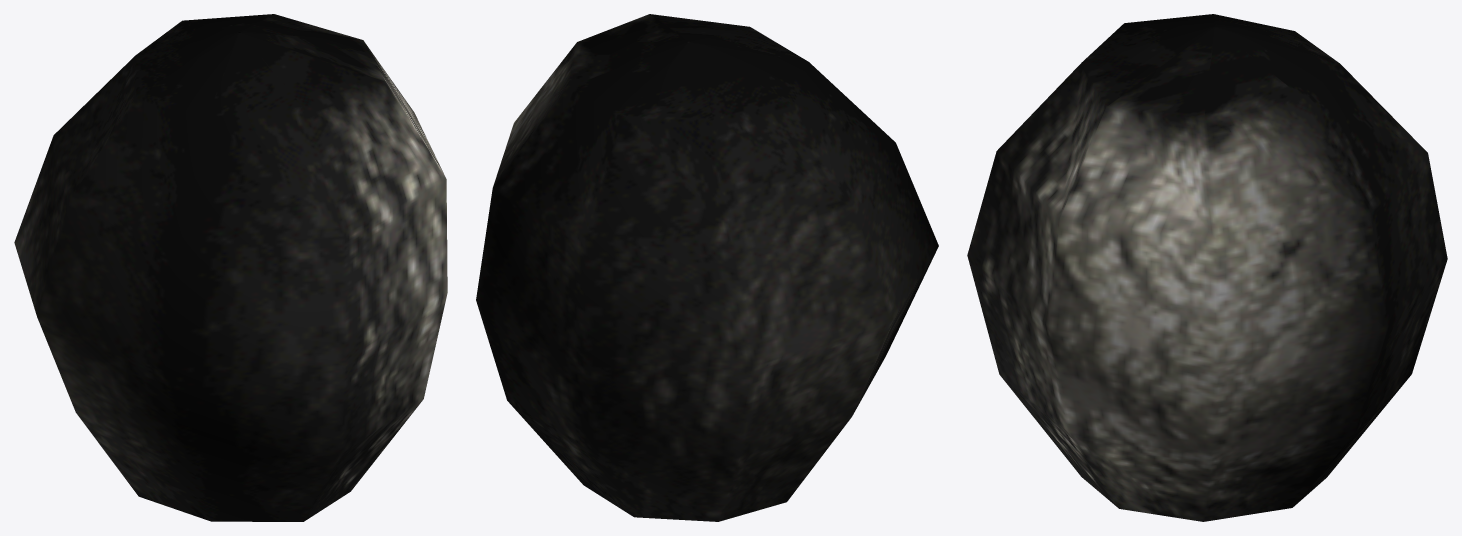
Rendered from bgrnd56.obj.
3 views of the same model, side by side, from view 1: azimuth 30°, elevation 25°; view 2: azimuth 150°, elevation 25°; view 3: azimuth 270°, elevation 25° (orthographic). The views are drawn at different scales.
Visible parts, largest first — view 1: frm-sphere9; view 2: frm-sphere9; view 3: frm-sphere9.
Part boxes in pixels (x1=…): frm-sphere9: x1=14, y1=14, x2=447, y2=521; frm-sphere9: x1=476, y1=14, x2=938, y2=521; frm-sphere9: x1=967, y1=14, x2=1447, y2=521.
Size of the model in its own units: 8.7 by 10 by 9.16.
